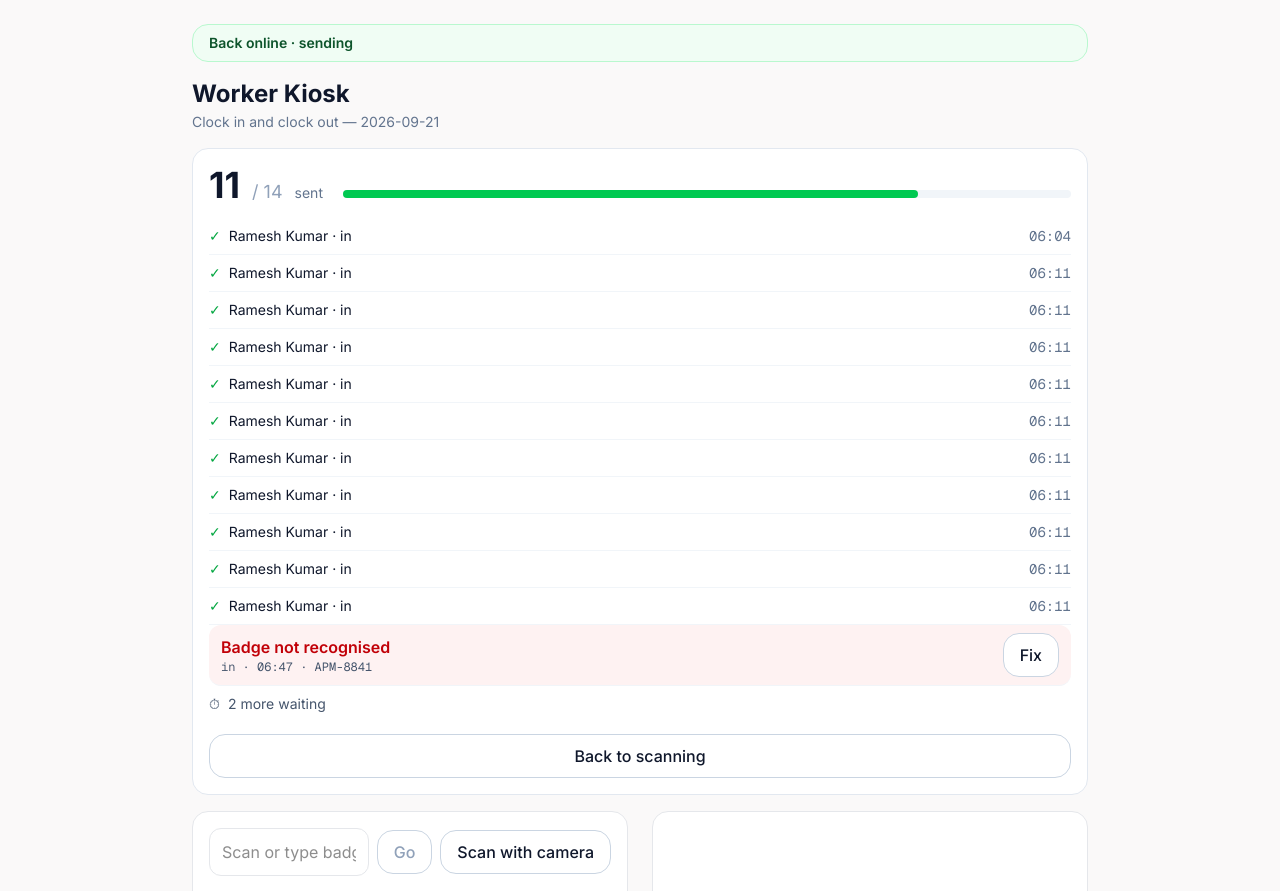
Test: the queue panel — K2’s “11 / 14 sent” › Fix asks who it really was, then records the correction for that person
Click the button "Fix": [1031, 655] box [1003,633,1059,677]
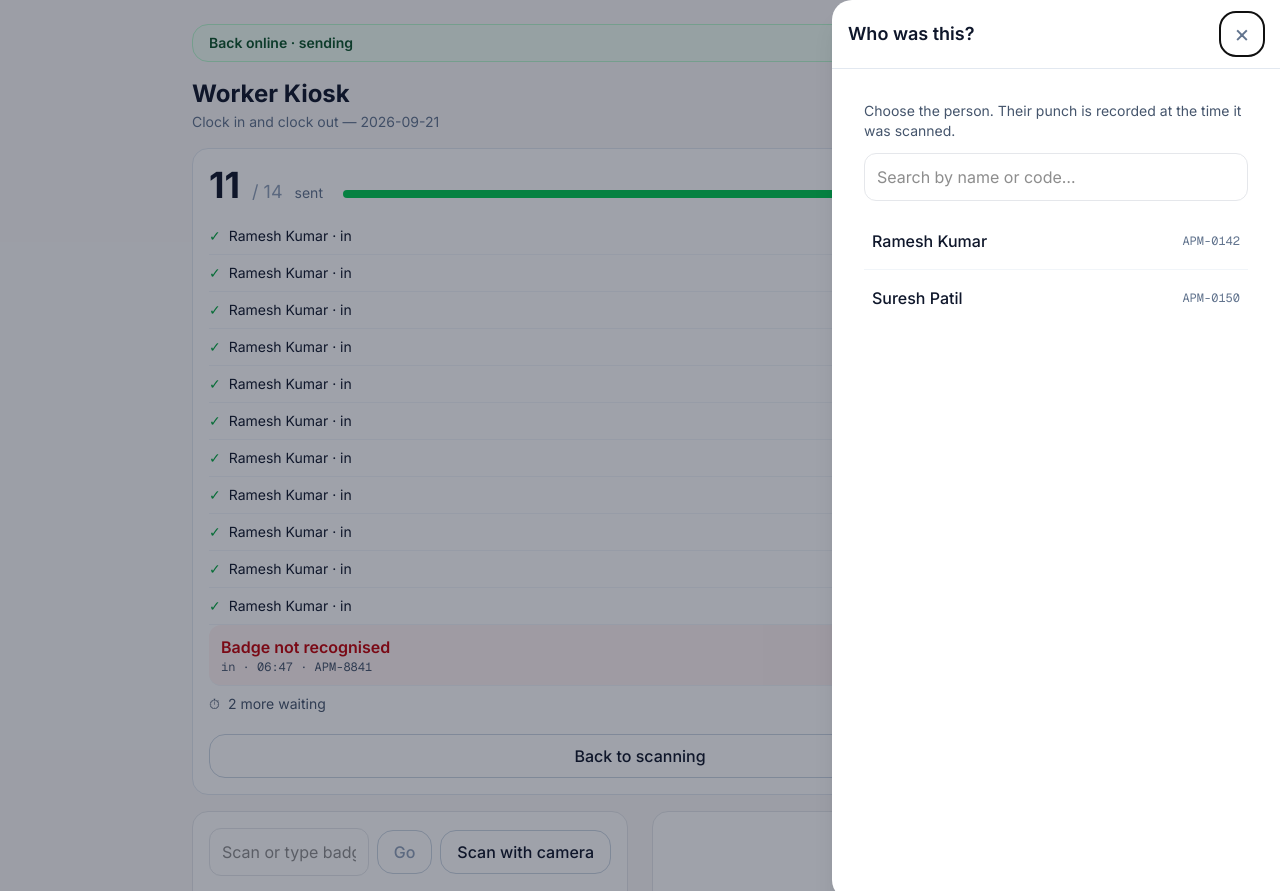
Now the heading "Who was this?" is shown, box [848,20,974,48]
Click the text "Ramesh Kumar": [930, 241] box [872,231,987,251]
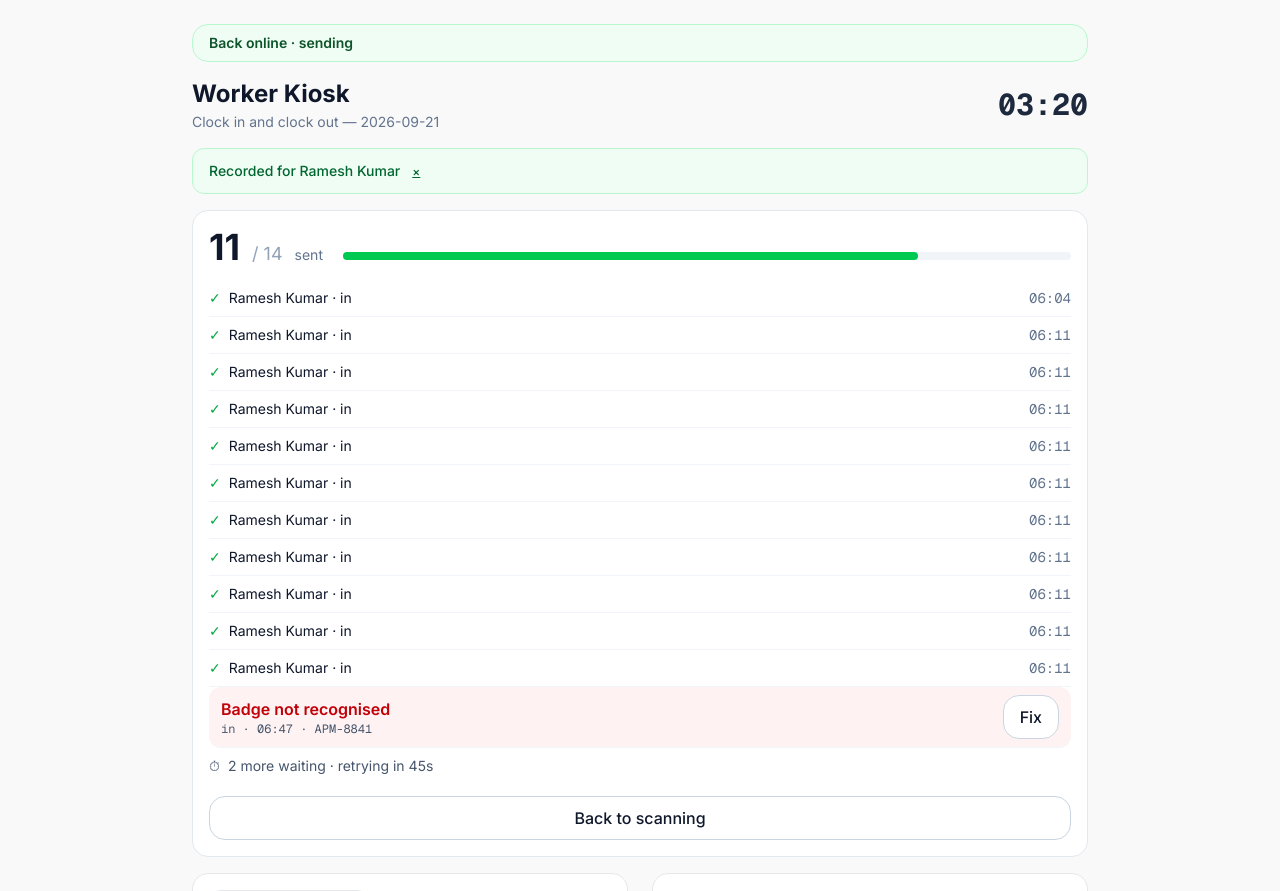
Now the text "Recorded for Ramesh Kumar ×" is shown, box [192,148,1088,194]
